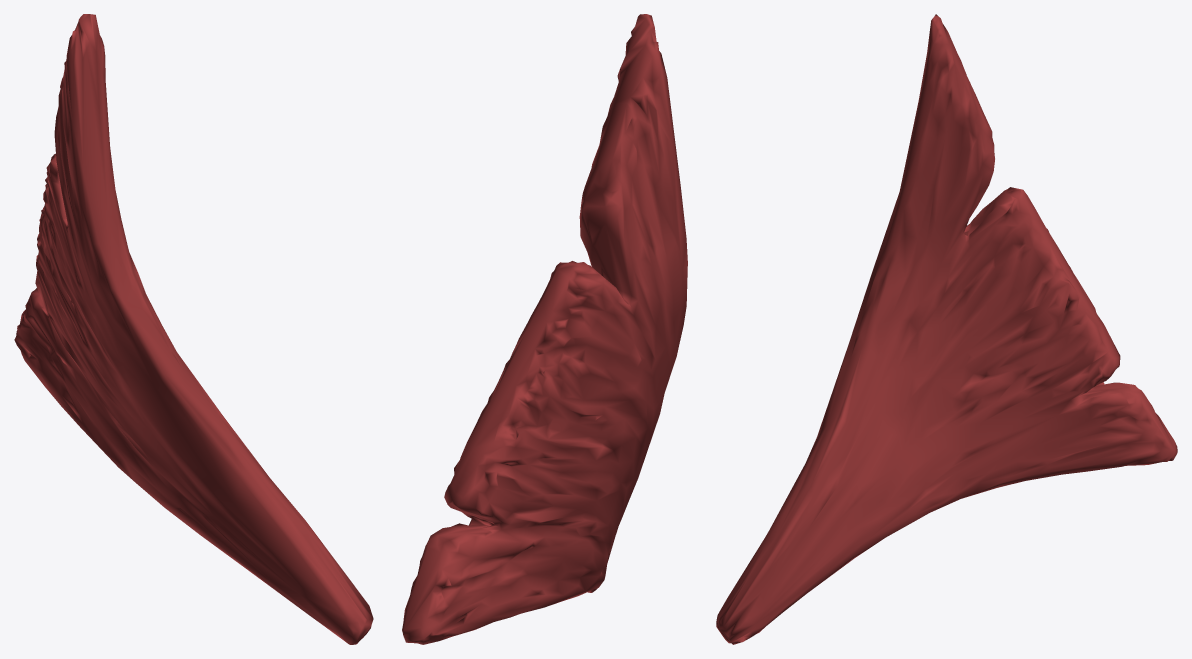
Rendered from thyro-epiglottic-part-of-thyro-arytenoid-muscle-r.glb.
3 renders of one model, left to right at view 1: azimuth 30°, elevation 25°; view 2: azimuth 150°, elevation 25°; view 3: azimuth 270°, elevation 25°, orthographic. The views are drawn at different scales.
Visible parts, largest first — view 1: Thyro-epiglottic part of thyro-arytenoid muscle.r; view 2: Thyro-epiglottic part of thyro-arytenoid muscle.r; view 3: Thyro-epiglottic part of thyro-arytenoid muscle.r.
Part boxes in pixels (x1,y1,x2,y2): Thyro-epiglottic part of thyro-arytenoid muscle.r: [14, 14, 373, 644]; Thyro-epiglottic part of thyro-arytenoid muscle.r: [402, 14, 687, 644]; Thyro-epiglottic part of thyro-arytenoid muscle.r: [716, 14, 1177, 644].
Bounding box in the file's own units: 0.00848 × 0.0249 × 0.0188.
